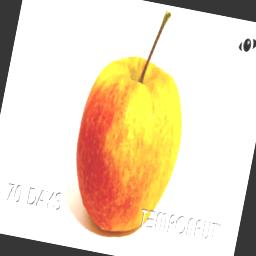Apple Unripe: (59, 0, 206, 245)
